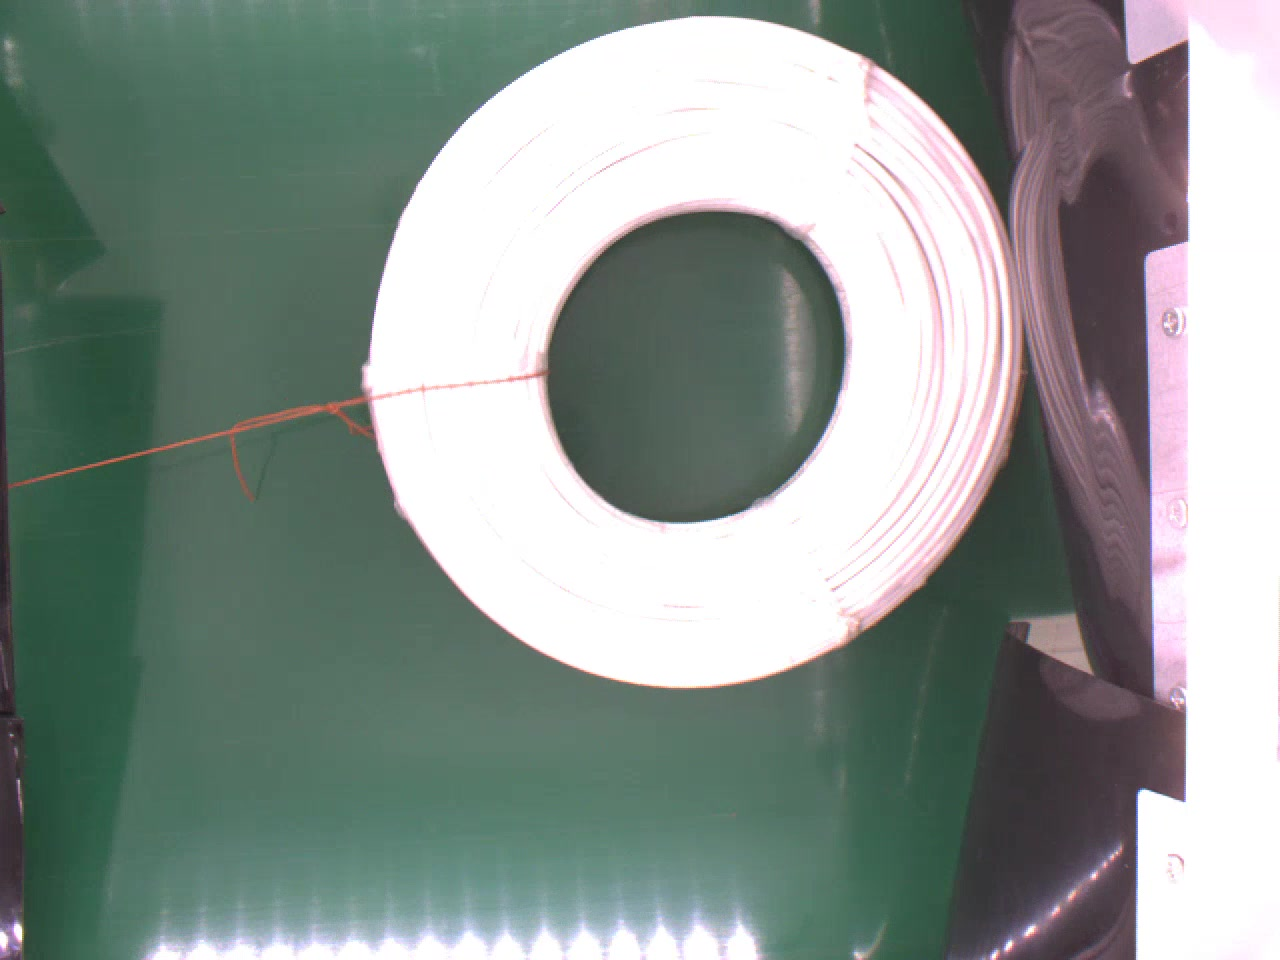white: (356, 10, 1032, 686)
